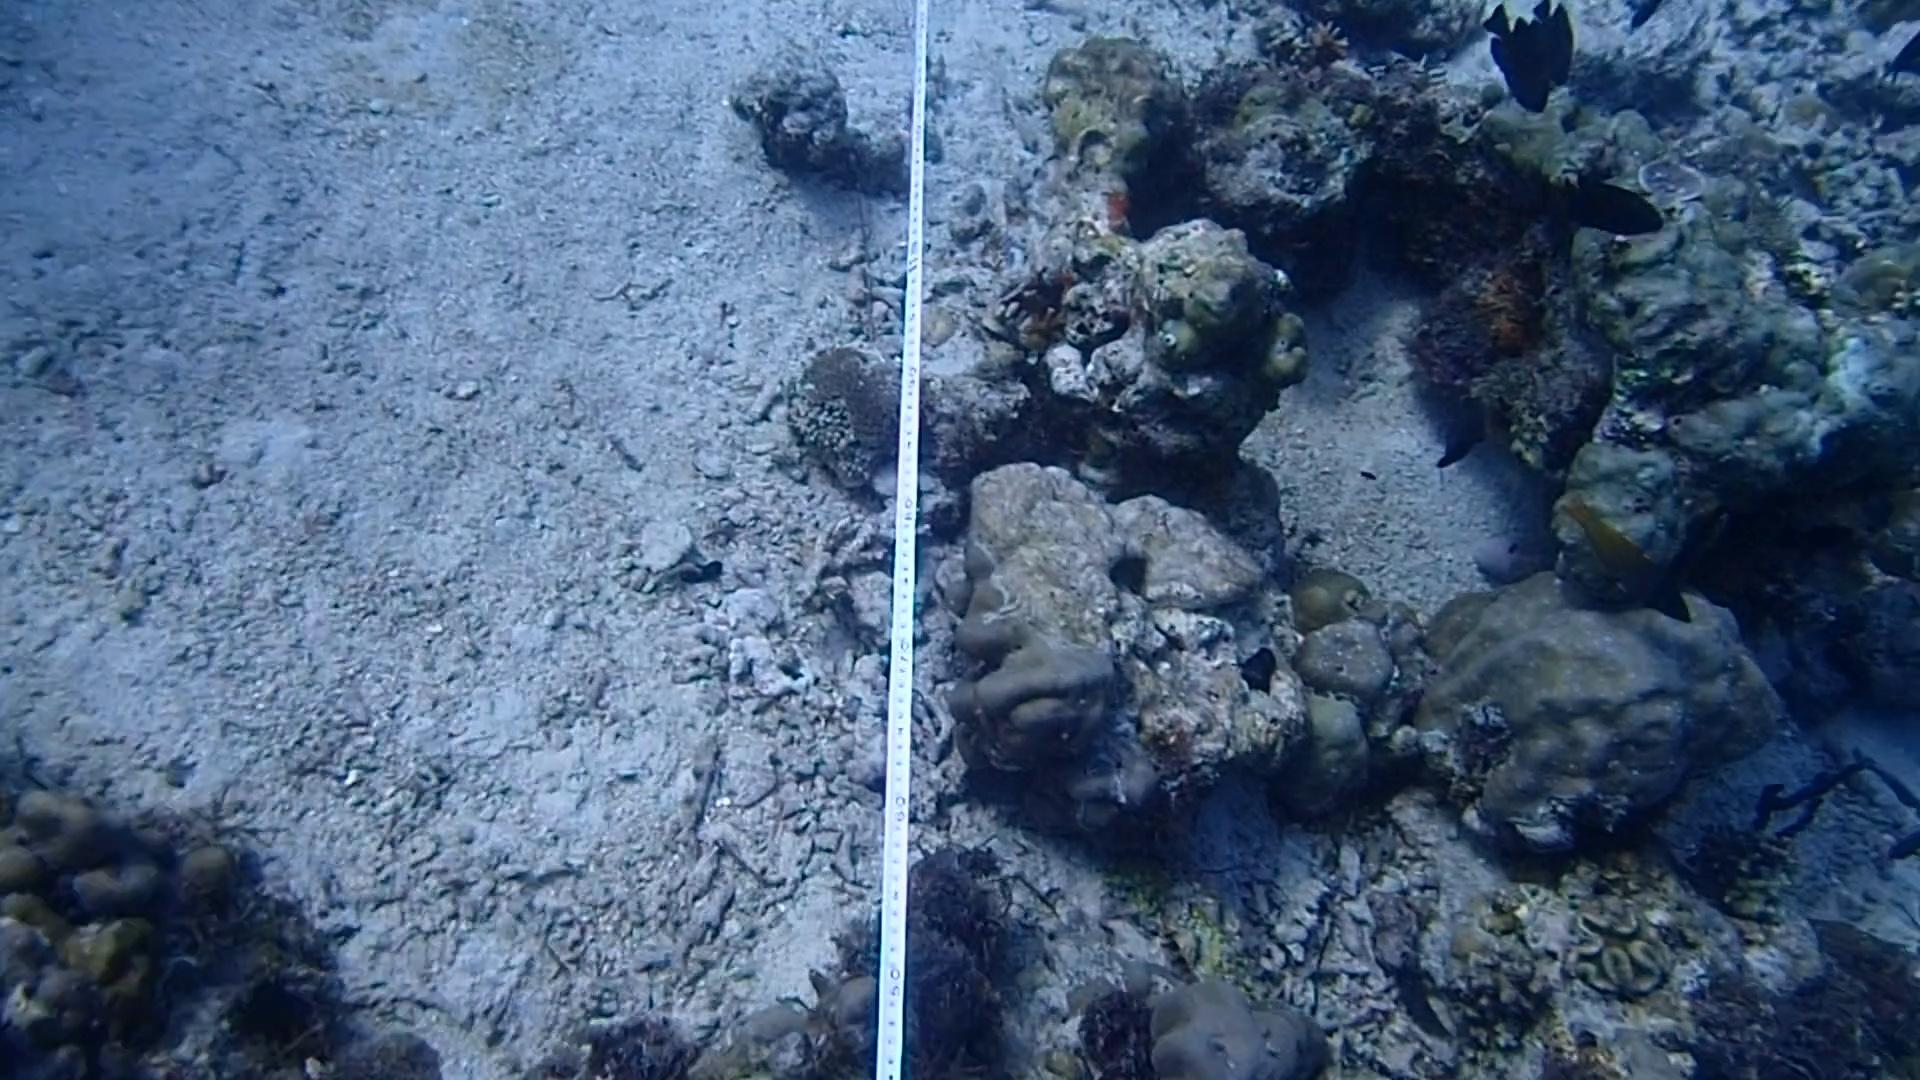Dark Fish: (1531, 157, 1668, 245), (1476, 3, 1565, 123), (1414, 376, 1510, 485), (1513, 0, 1592, 92)
Half Blue - Half Yellow: (1557, 488, 1697, 632)
